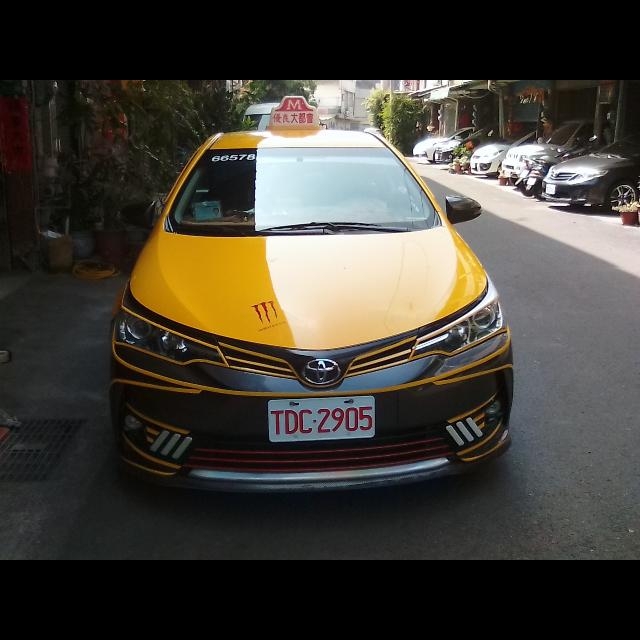plate: (268, 396, 375, 442)
